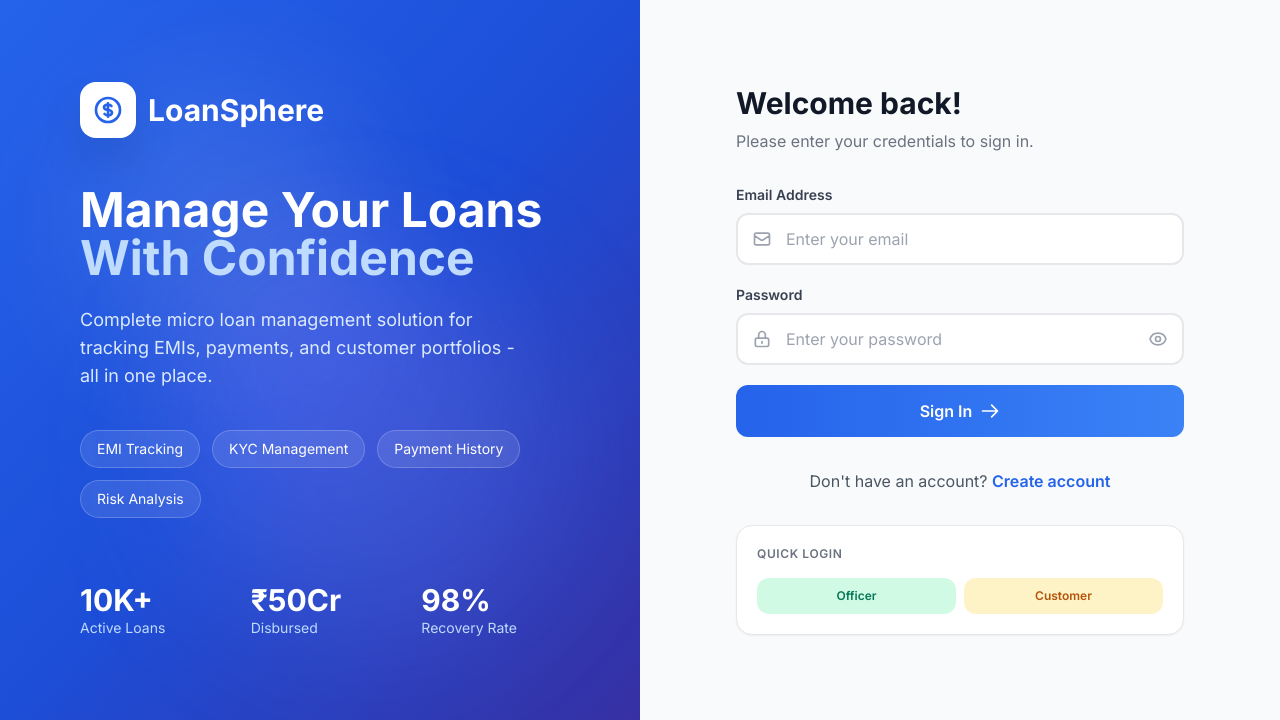
Authentication › Login Page › should toggle password visibility
Type "testpassword" into the password field with placeholder "Enter your password" at (960, 339), box [736,313,1184,365]
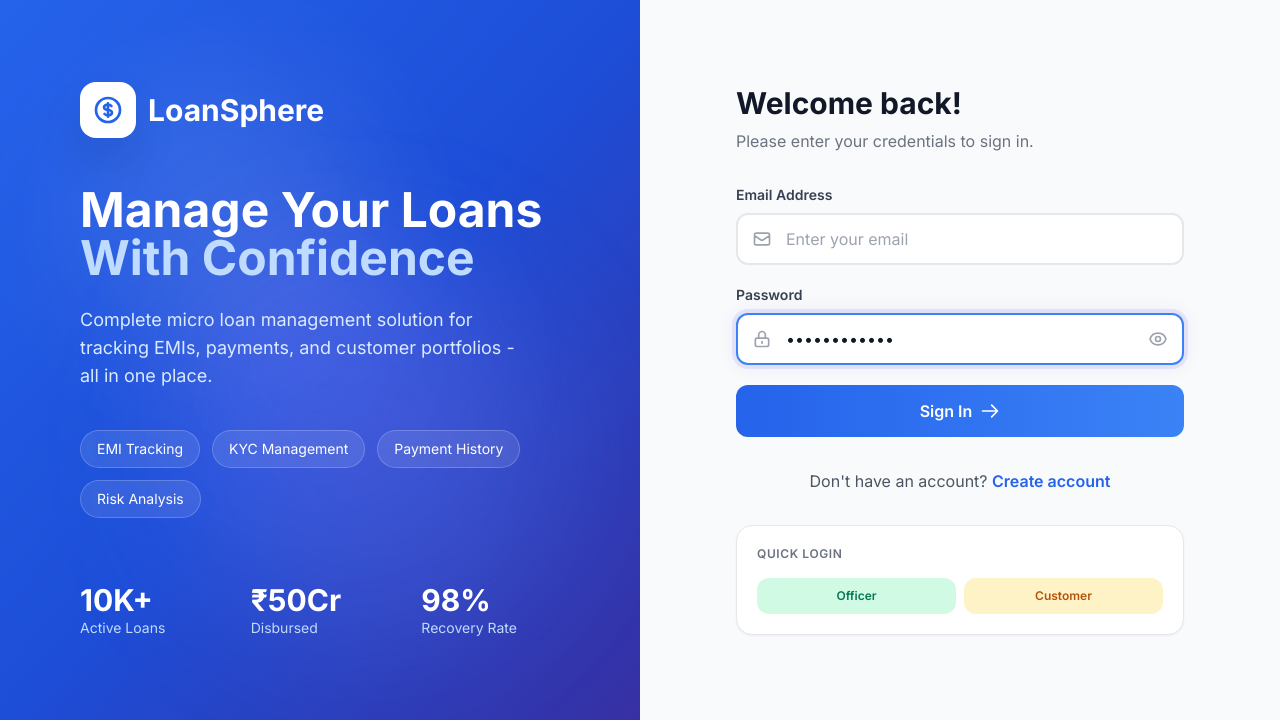
Click the password visibility toggle button (it's next to the password input)
Click the 1st button at (1158, 339), box [1148,329,1168,349]
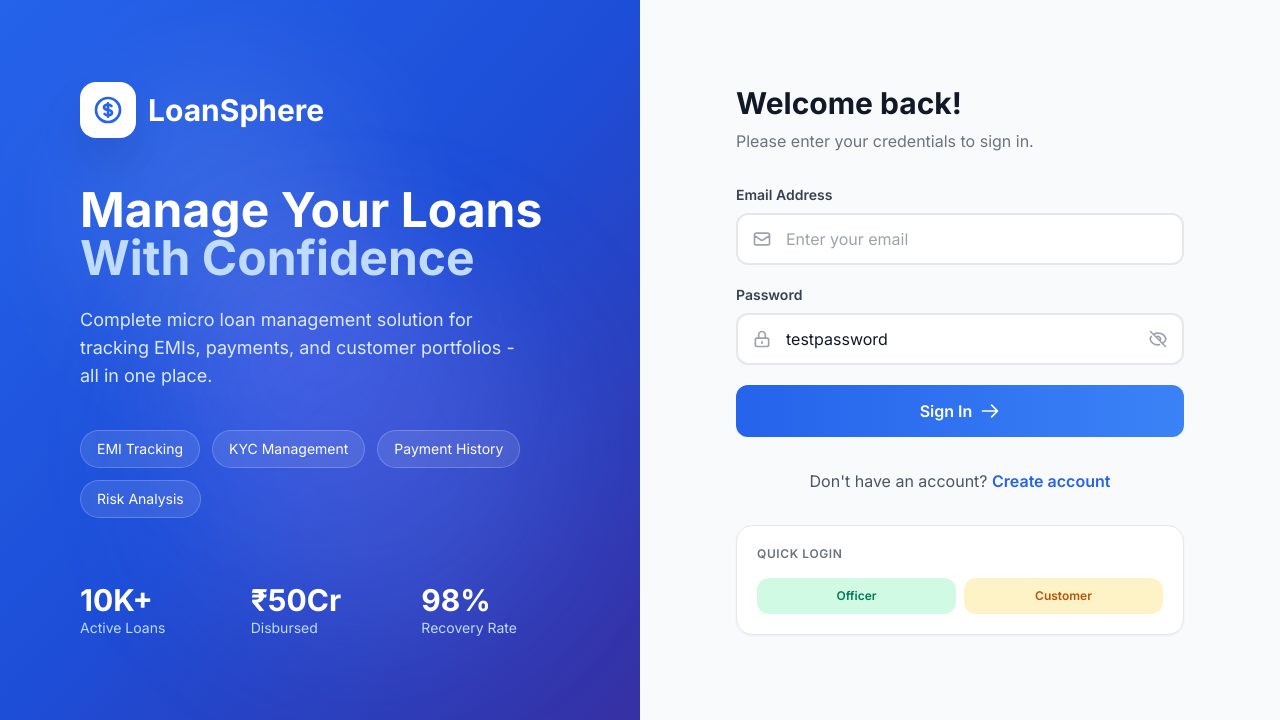
Result: the field named "password" shows its text at [736,313,1184,365]
